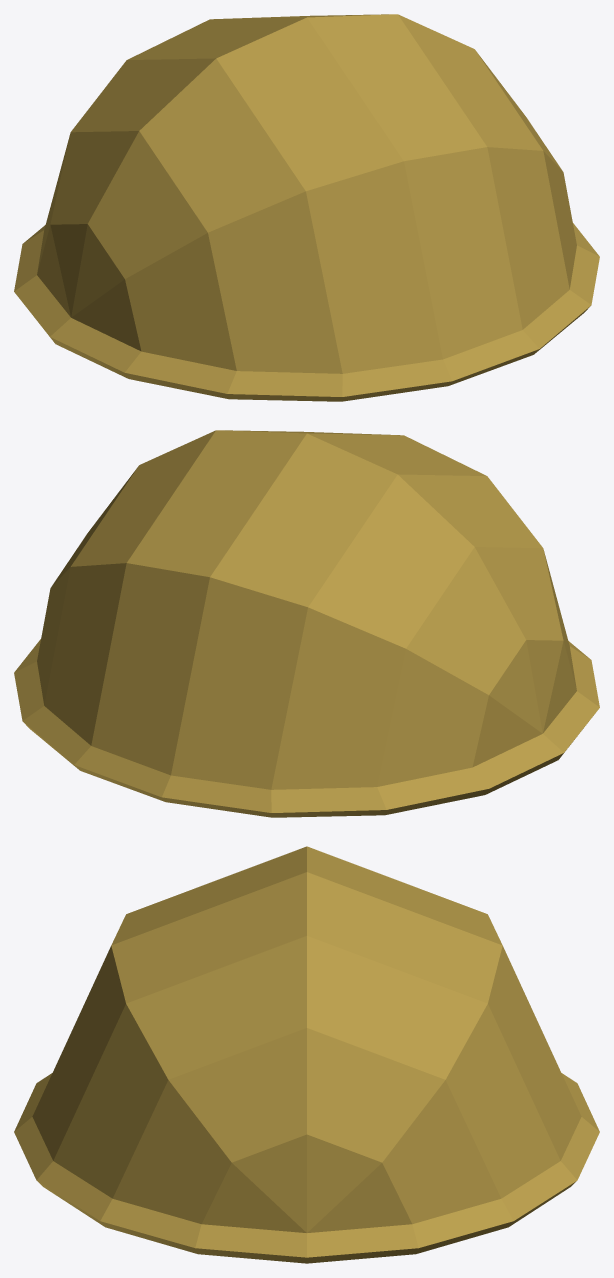
The model's file is HardHat.fbx.
3 renders of one model, top to bottom at view 1: azimuth 30°, elevation 25°; view 2: azimuth 150°, elevation 25°; view 3: azimuth 270°, elevation 25°, orthographic.
Parts seen in each view (by area): view 1: pSphere1; view 2: pSphere1; view 3: pSphere1.
Boxes of the visible parts, x1,y1,x2,y2 form: pSphere1: (14,14,599,401); pSphere1: (14,430,599,817); pSphere1: (14,846,599,1263).
Bounding box in the file's own units: 0.0877 × 0.0432 × 0.0857.
